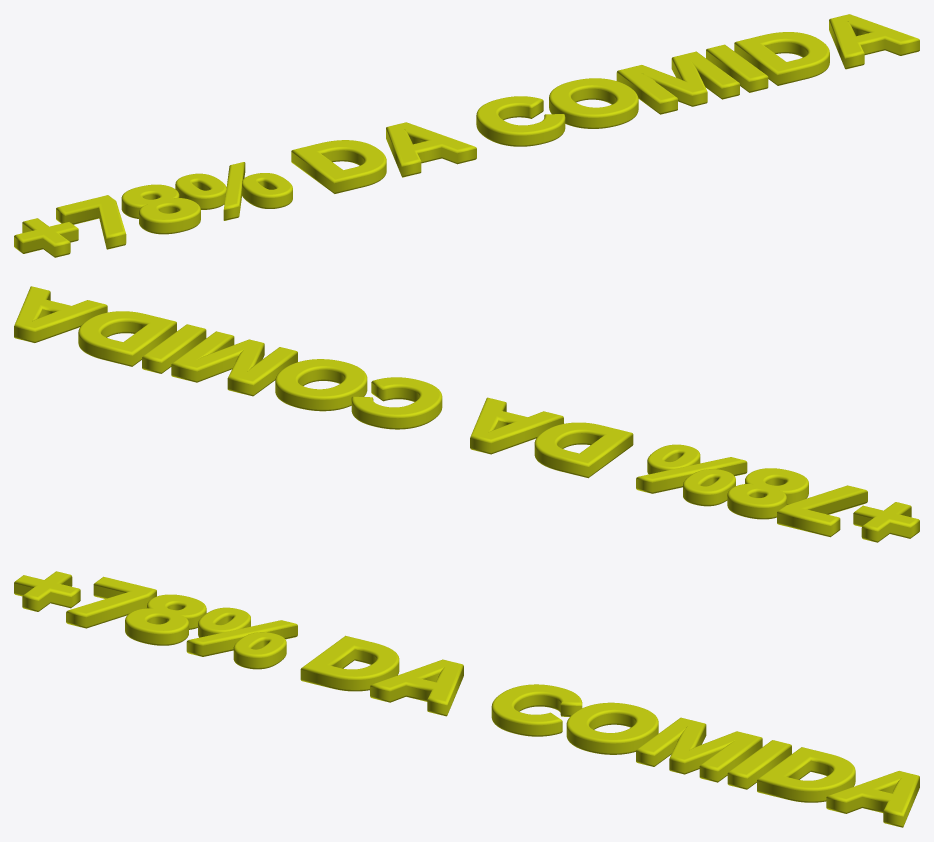
3 renders of one model, top to bottom at view 1: azimuth 30°, elevation 25°; view 2: azimuth 150°, elevation 25°; view 3: azimuth 330°, elevation 25°, orthographic. The views are drawn at different scales.
Visible parts, largest first — view 1: Text 1; view 2: Text 1; view 3: Text 1.
Part boxes in pixels (x1,y1,x2,y2): Text 1: [14, 14, 919, 257]; Text 1: [14, 286, 919, 542]; Text 1: [14, 571, 919, 827].
Size of the model in its own units: 7.73 by 0.12 by 0.6746.
